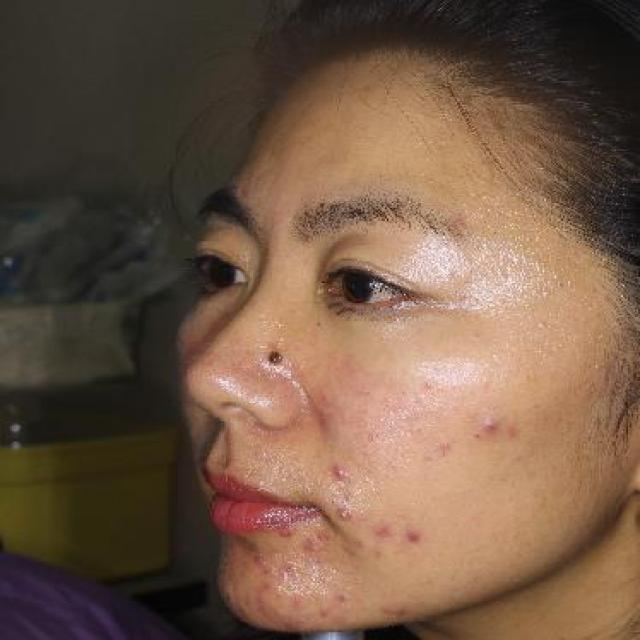dark spot: (370, 518, 397, 542), (402, 528, 424, 546)
papules: (476, 411, 508, 442), (325, 458, 356, 480), (274, 522, 298, 542)
pustules: (335, 506, 356, 523)
